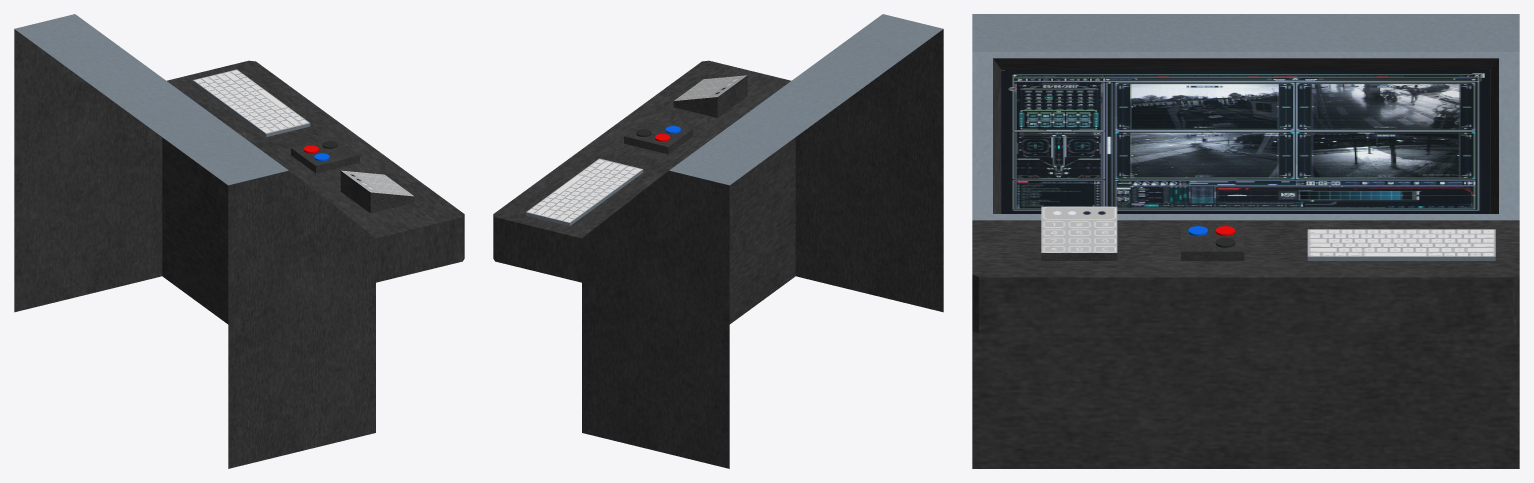
Rendered from Console_v2_1.fbx.
The picture shows the model from 3 angles, left to right: view 1: azimuth 30°, elevation 25°; view 2: azimuth 150°, elevation 25°; view 3: azimuth 270°, elevation 25°; orthographic projection. The views are drawn at different scales.
Visible parts, largest first — view 1: Console_v2_1; view 2: Console_v2_1; view 3: Console_v2_1.
Boxes of the visible parts, left/top/right/bottom form: Console_v2_1: left=14, top=14, right=464, bottom=468; Console_v2_1: left=493, top=14, right=943, bottom=468; Console_v2_1: left=972, top=14, right=1519, bottom=468.
Size of the model in its own units: 107 by 122 by 166.
Materials: 1 (1 with a texture image).
